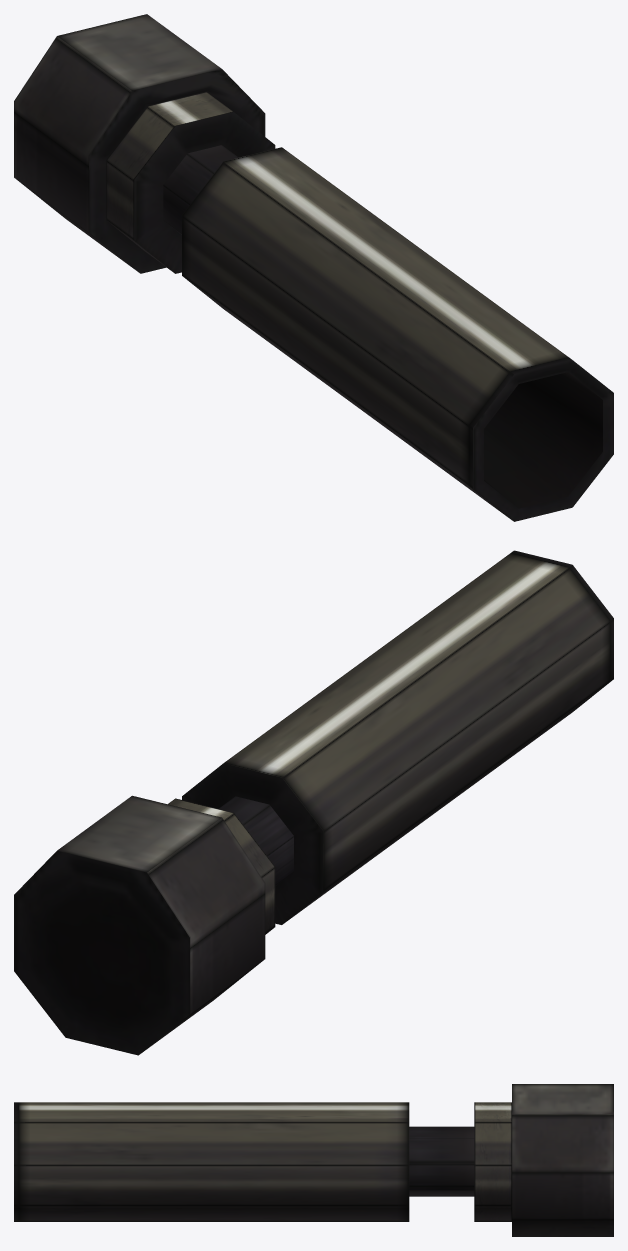
File: SniperRifle_Warfare_Muzzle_1.FBX
3 renders of one model, top to bottom at view 1: azimuth 30°, elevation 25°; view 2: azimuth 150°, elevation 25°; view 3: azimuth 270°, elevation 25°, orthographic. The views are drawn at different scales.
Parts seen in each view (by area): view 1: mesh_muzzle; view 2: mesh_muzzle; view 3: mesh_muzzle.
Boxes of the visible parts, <box> form: mesh_muzzle: <box>14,14,613,521</box>; mesh_muzzle: <box>14,550,613,1055</box>; mesh_muzzle: <box>14,1084,613,1236</box>.
Size of the model in its own units: 0.0384 by 0.0386 by 0.1668.
